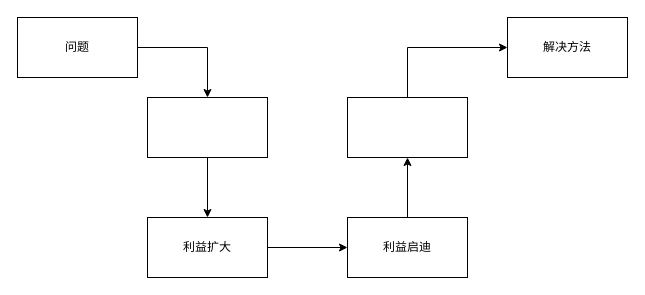
Image size: 645x295. Some labels were removed from this diagram. Each missing label, with the centre of its shape:
"利益协调" belongs at [407,127].
"利益自述" belongs at [207,127].
